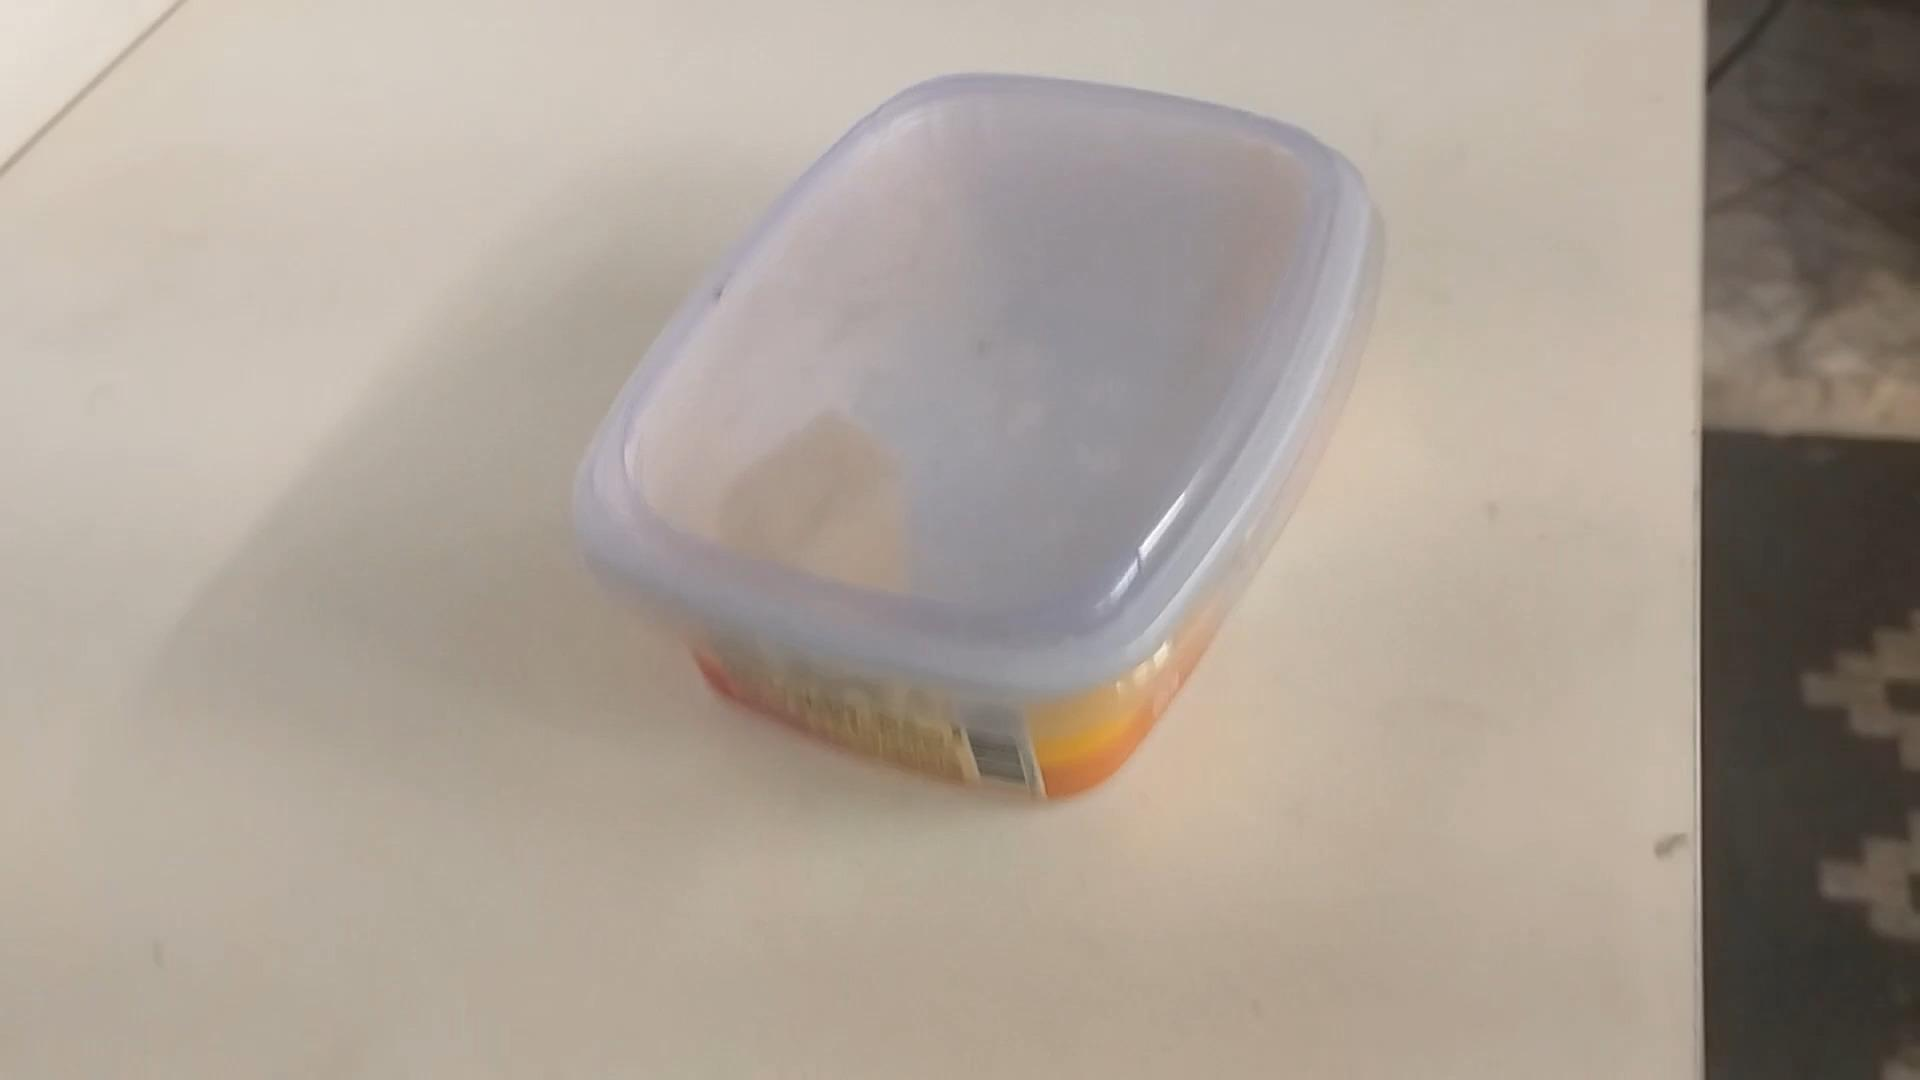butter: (555, 70, 1382, 807)
